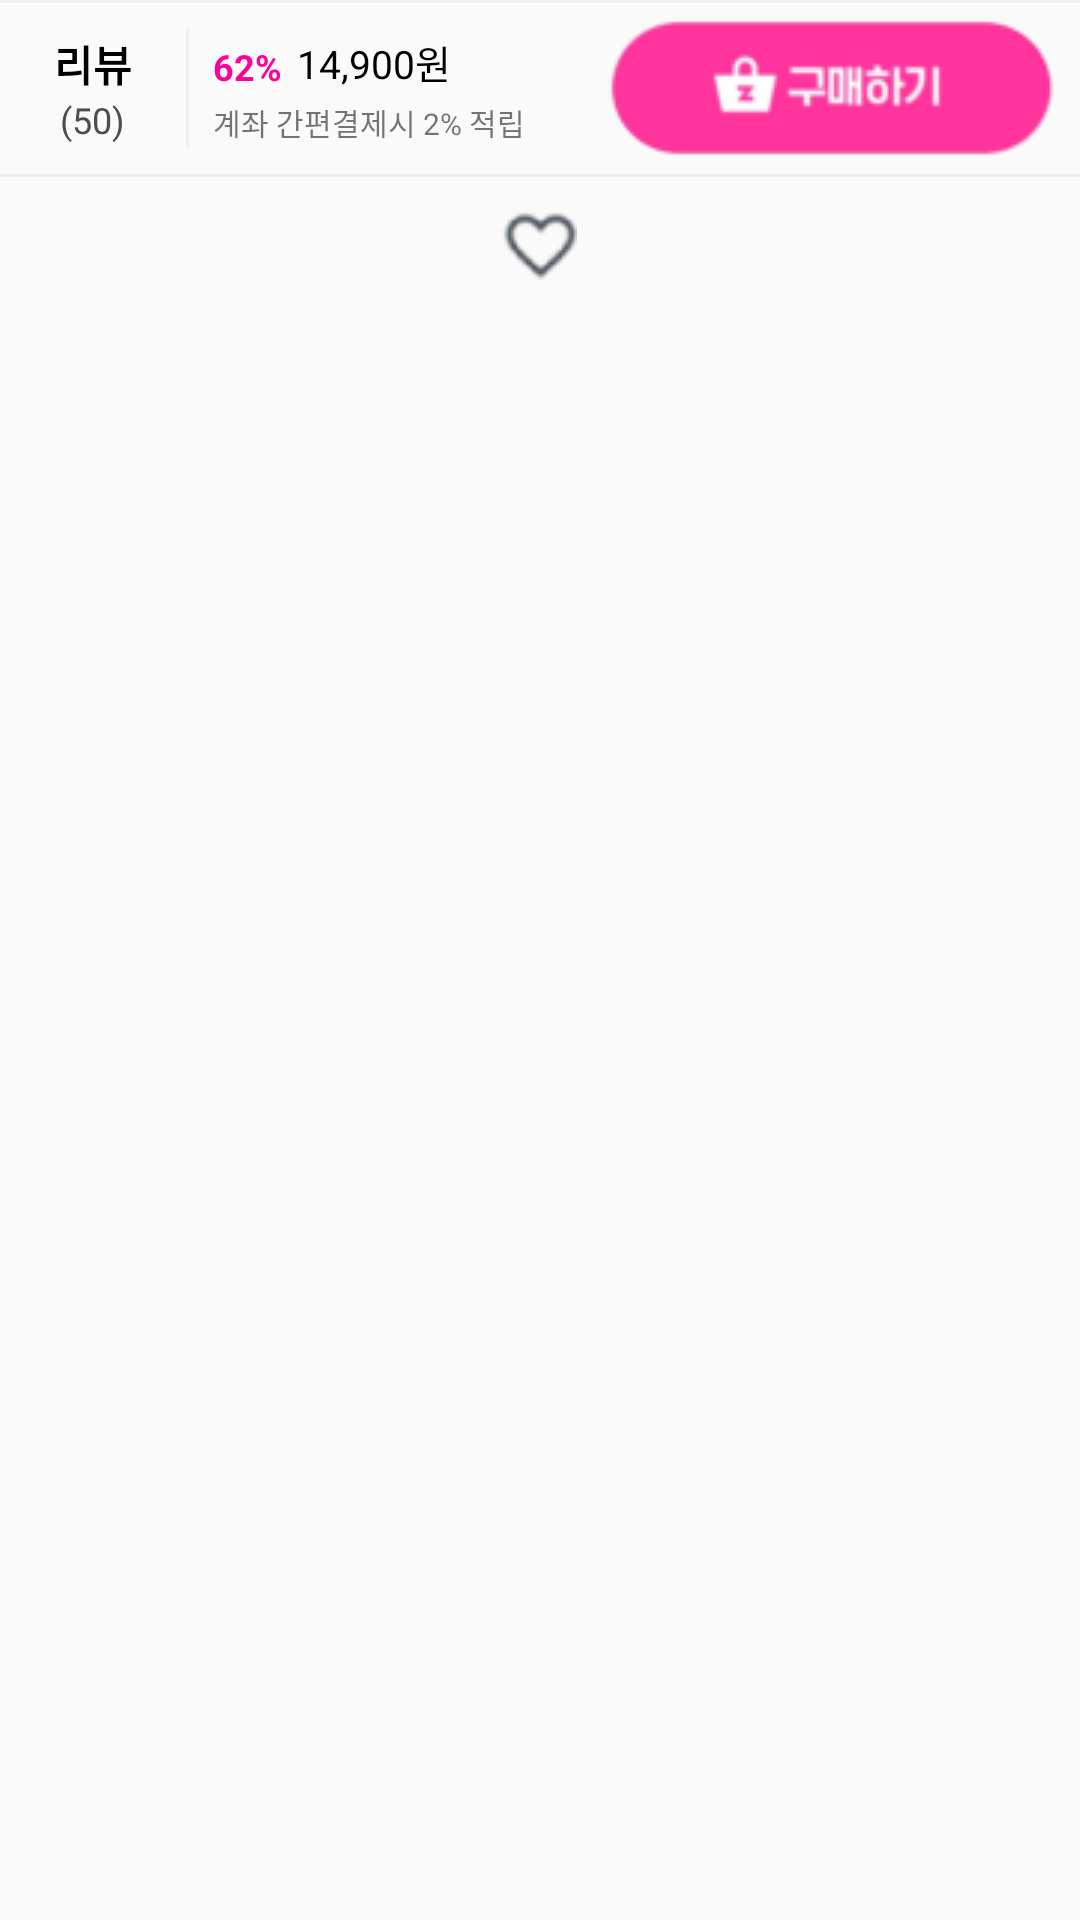

Icon click points for this 1080px×1920px phone screenshot, format point (x, y):
checkbox custom like: point (540, 245)
